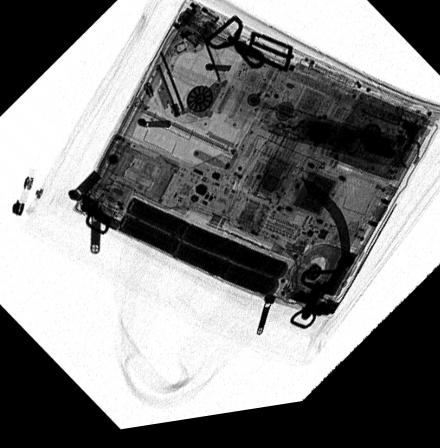Baton: (262, 111, 421, 182)
